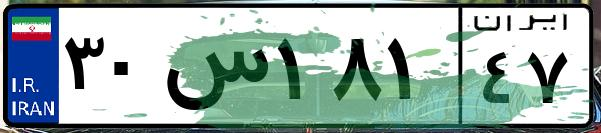0: (110, 28, 158, 98)
1: (270, 28, 330, 110), (385, 28, 445, 110)
3: (57, 26, 110, 100)
4: (475, 38, 525, 113)
7: (525, 38, 570, 115)
8: (330, 28, 385, 110)
س: (158, 20, 270, 120)
